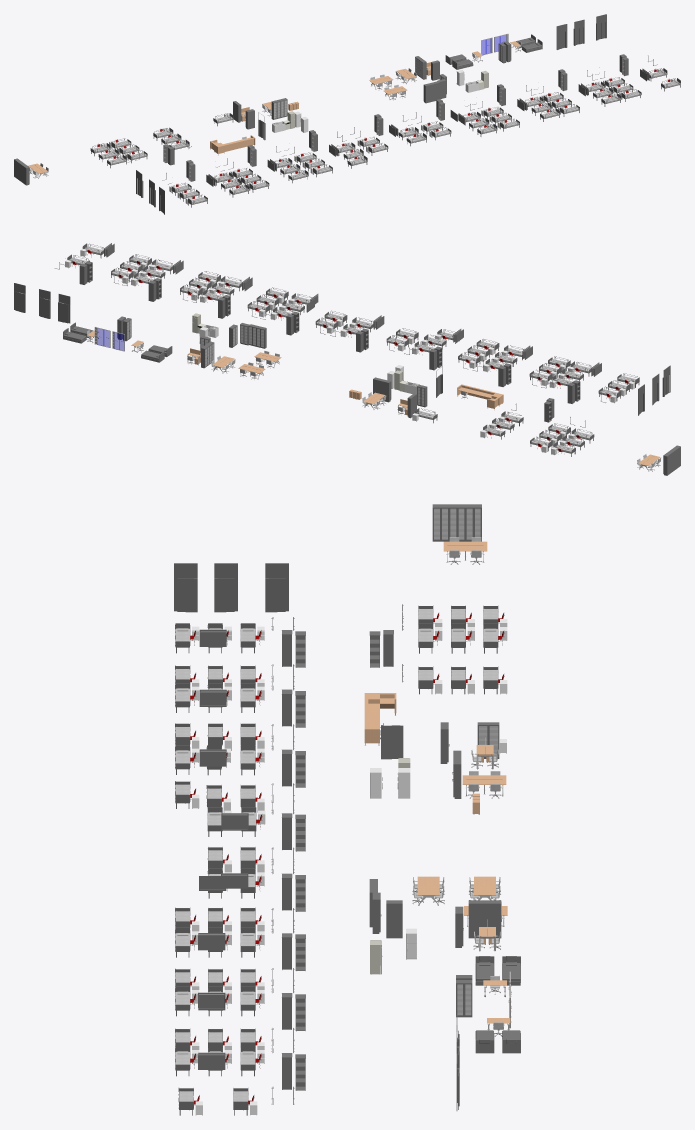
File: F6_jiaju.glb
3 renders of one model, top to bottom at view 1: azimuth 30°, elevation 25°; view 2: azimuth 150°, elevation 25°; view 3: azimuth 270°, elevation 25°, orthographic. The views are drawn at different scales.
Visible parts, largest first — view 1: jjxt-1 [1895952]; view 2: jjxt-1 [1895952], 1300 [1884963]; view 3: 1300 [1884964], 1300 [1884965], 1300 [1884966], jjxt-1 [1895952].
Boxes of the visible parts, box(x1,y1,x2,y2) form: jjxt-1 [1895952]: box(210, 135, 255, 155); jjxt-1 [1895952]: box(457, 384, 503, 410); 1300 [1884963]: box(58, 294, 70, 323); 1300 [1884964]: box(265, 563, 288, 612); 1300 [1884965]: box(214, 563, 237, 612); 1300 [1884966]: box(174, 563, 197, 612); jjxt-1 [1895952]: box(364, 693, 396, 745).
Bounding box in the file's own units: 75.23 × 2.9 × 19.09.
21 materials, 3 textured.
